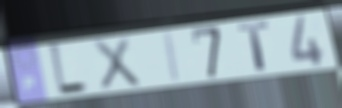4: (289, 13, 328, 70)
7: (189, 25, 224, 80)
I: (162, 28, 184, 85)
L: (45, 41, 91, 98)
T: (235, 19, 273, 73)
X: (89, 34, 144, 93)
